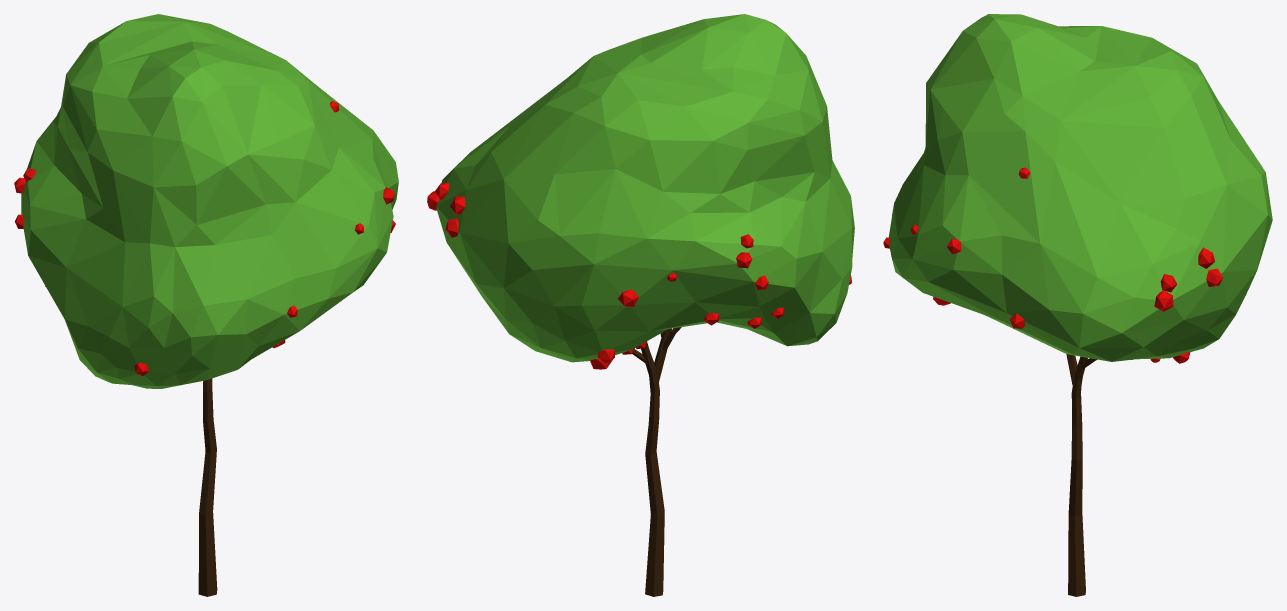
Rendered from Tree04_Apple02.fbx.
3 renders of one model, left to right at view 1: azimuth 30°, elevation 25°; view 2: azimuth 150°, elevation 25°; view 3: azimuth 270°, elevation 25°, orthographic. The views are drawn at different scales.
Visible parts, largest first — view 1: FruitTree01; view 2: FruitTree01; view 3: FruitTree01.
Boxes of the visible parts, bbox=[...] form: FruitTree01: bbox=[14, 14, 398, 596]; FruitTree01: bbox=[427, 14, 854, 596]; FruitTree01: bbox=[883, 14, 1272, 596].
Size of what is drawn, in the model's own units: 763 by 1161 by 744.
